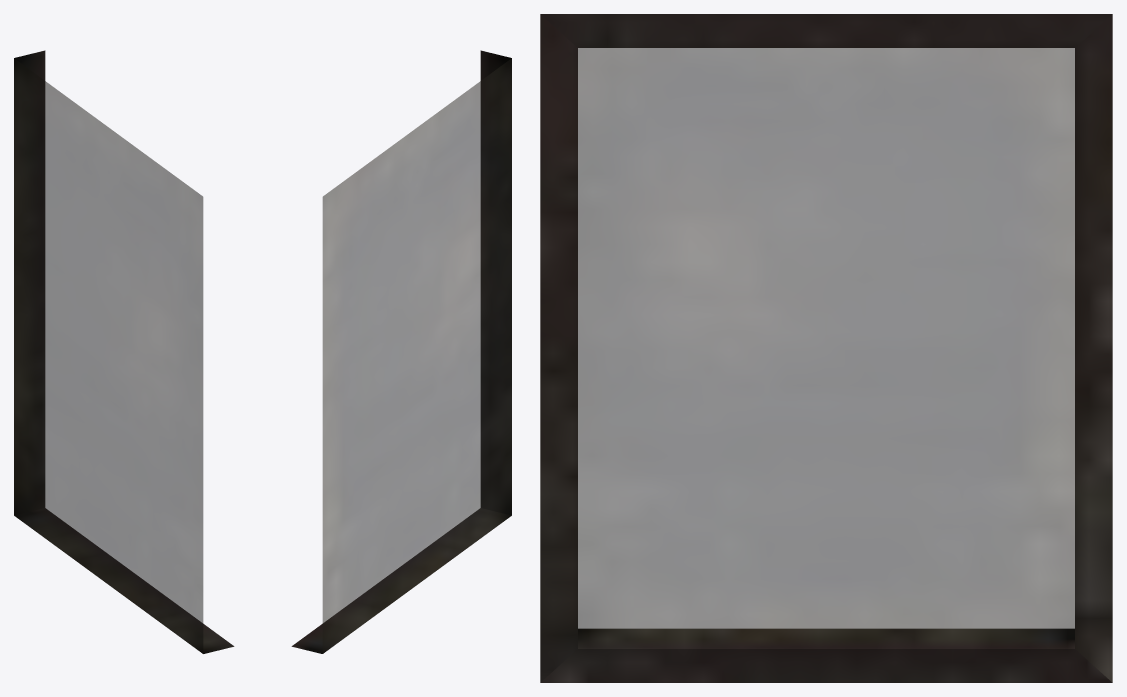
The model's file is SmallWindow_02.FBX.
The picture shows the model from 3 angles, left to right: view 1: azimuth 30°, elevation 25°; view 2: azimuth 150°, elevation 25°; view 3: azimuth 270°, elevation 25°; orthographic projection. The views are drawn at different scales.
Parts seen in each view (by area): view 1: SmallWindow_02; view 2: SmallWindow_02; view 3: SmallWindow_02.
Boxes of the visible parts, x1,y1,x2,y2 form: SmallWindow_02: (14,50,234,653); SmallWindow_02: (291,50,511,653); SmallWindow_02: (540,14,1112,682).
Bounding box in the file's own units: 10.46 × 163 × 126.
